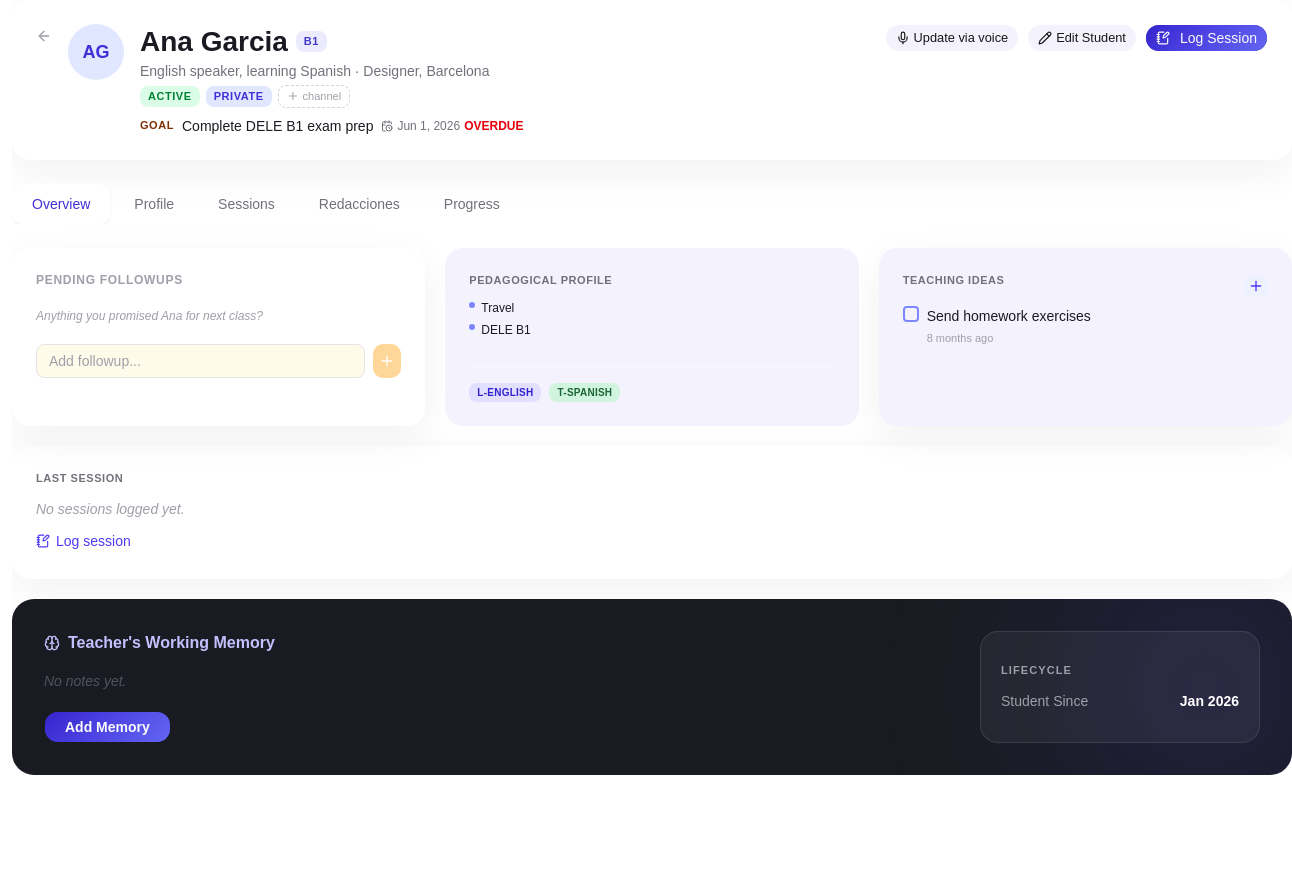
StudentDetail › switches to Profile tab on click
Expected: the heading "Ana Garcia" is shown, [140,24,288,59]
Click the tab with test id "tab-profile": coordinates (154, 204) [114,184,194,224]
(page scrolled)
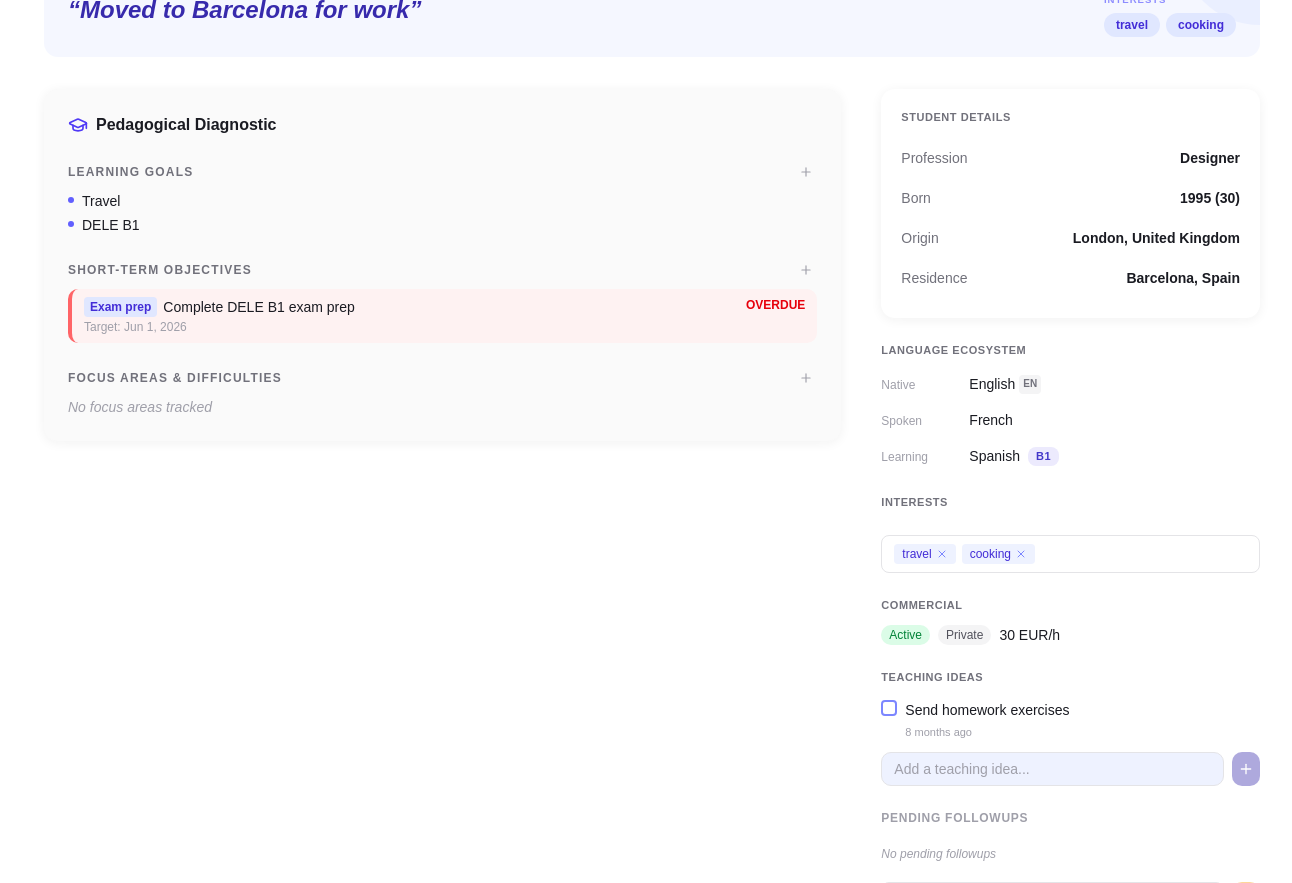
Expected: the element with test id "student-overview-tab" is gone
